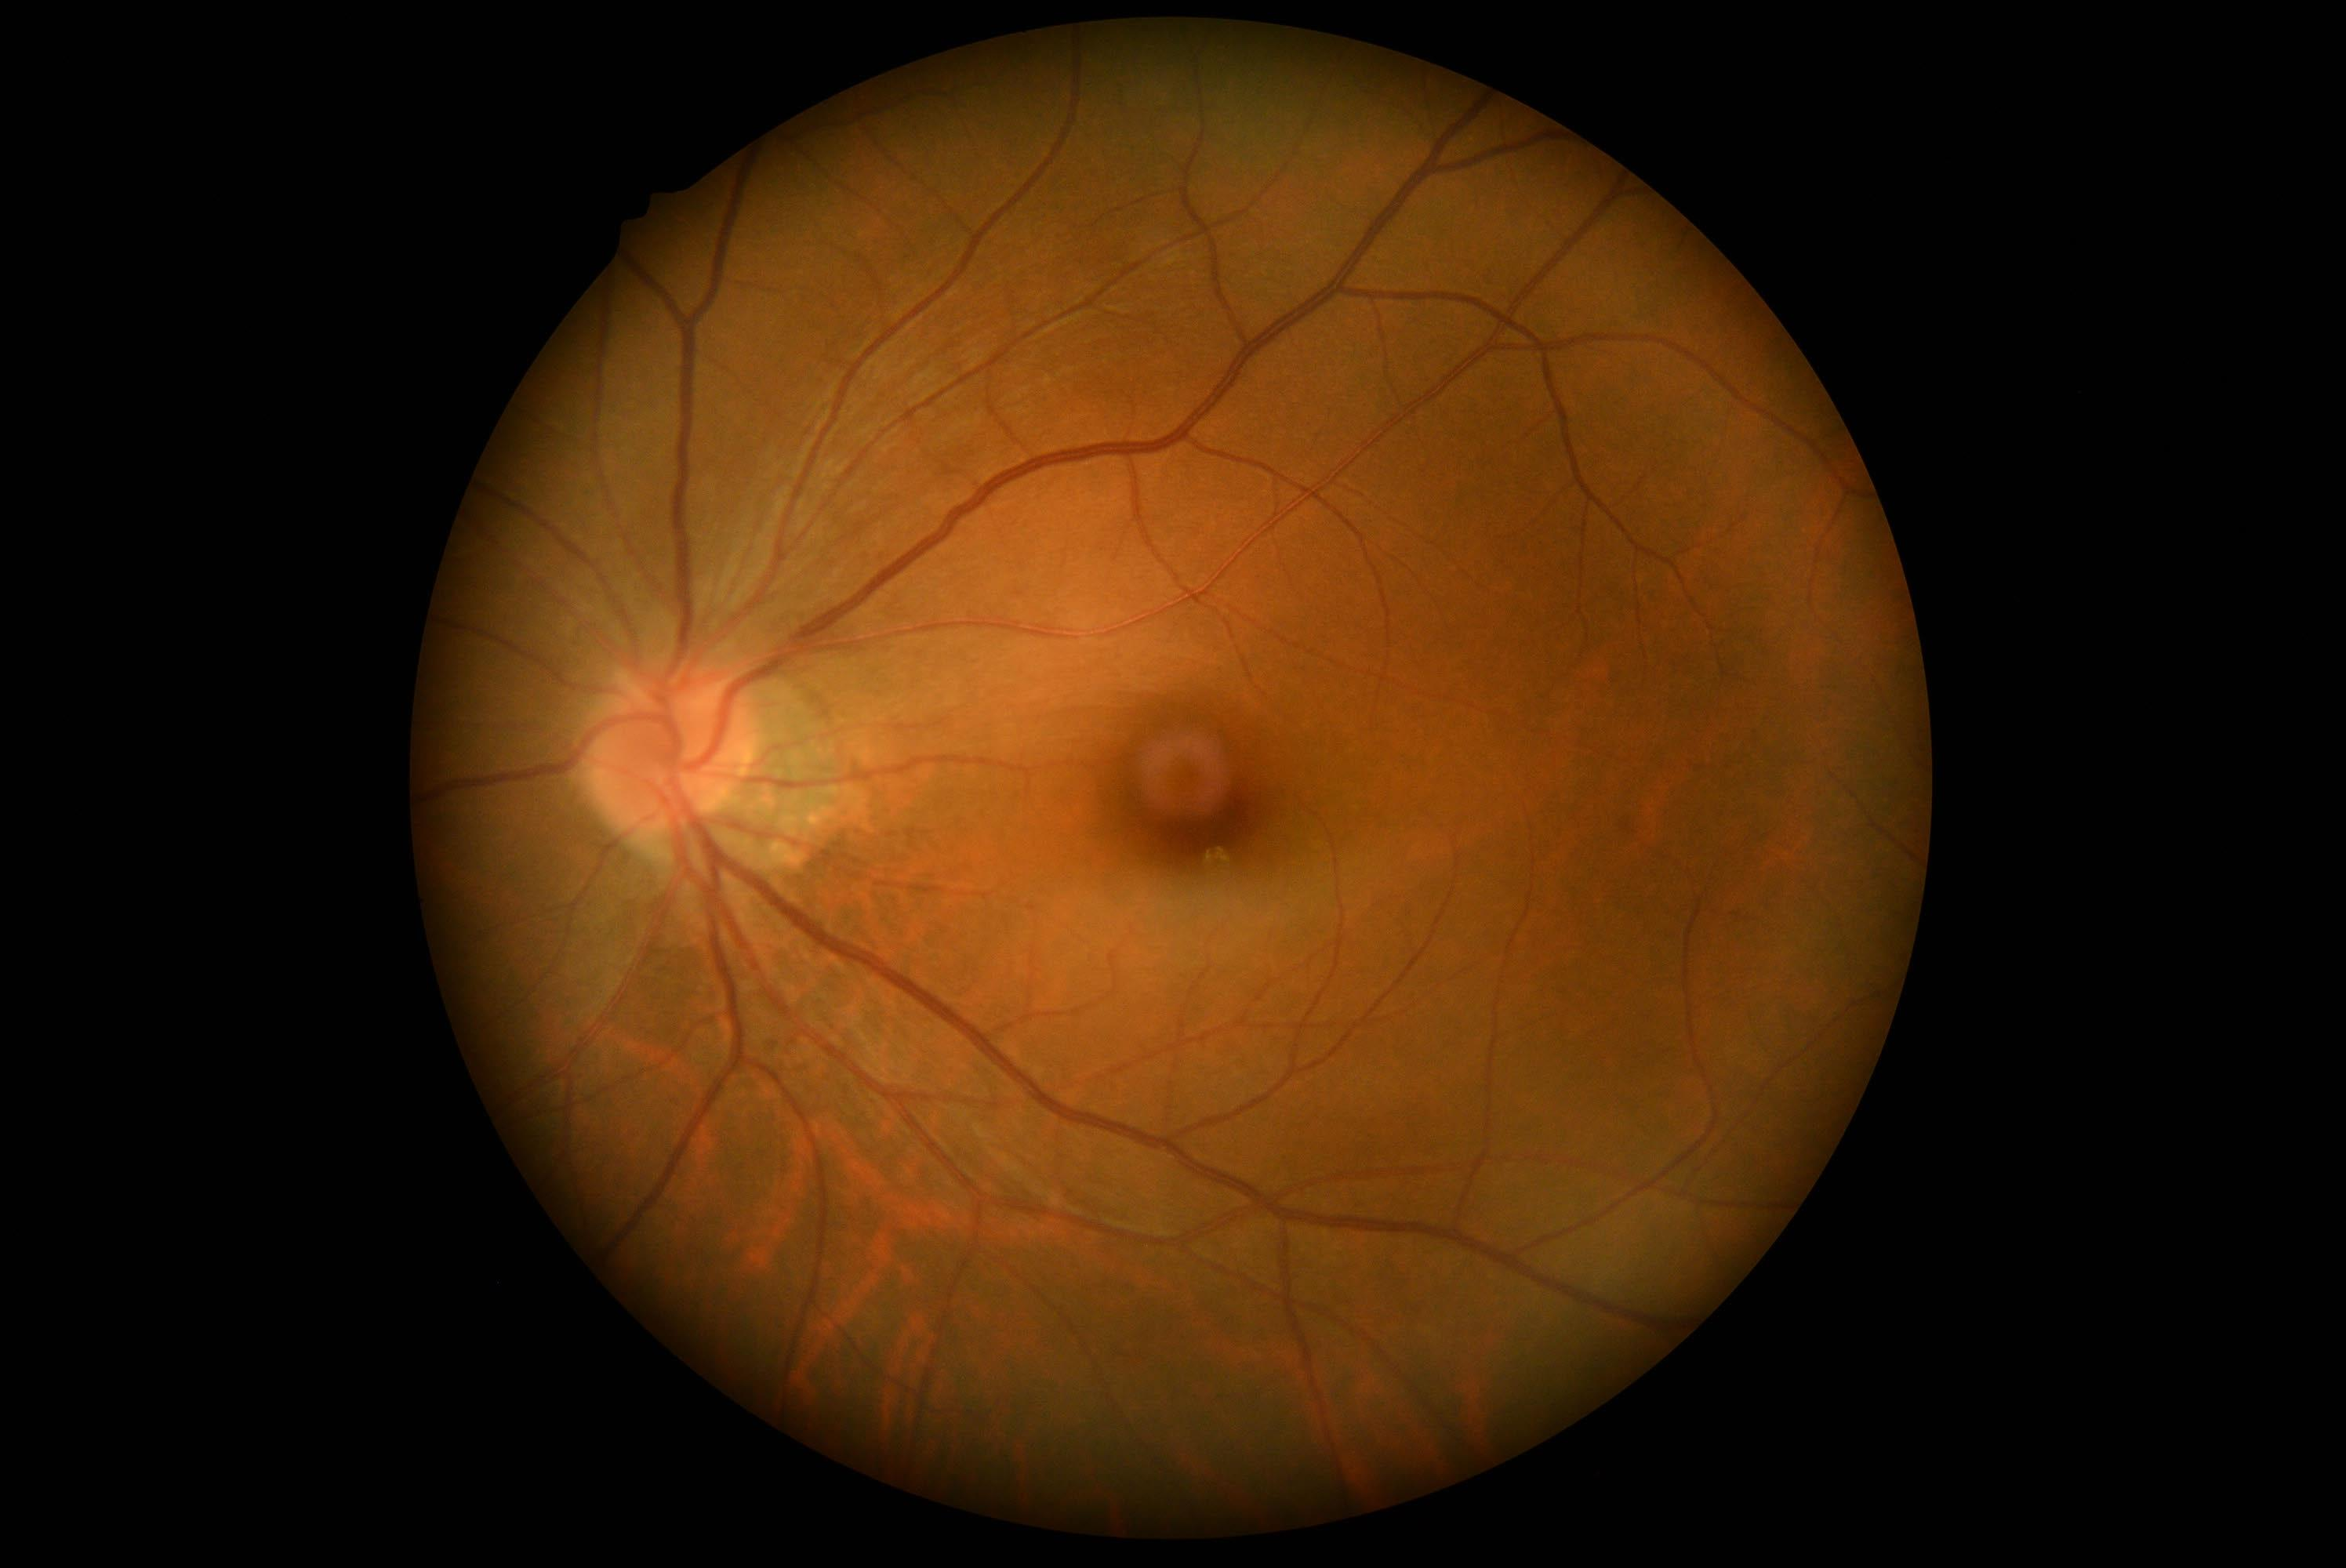Fovea: (1132, 739, 1277, 877)
